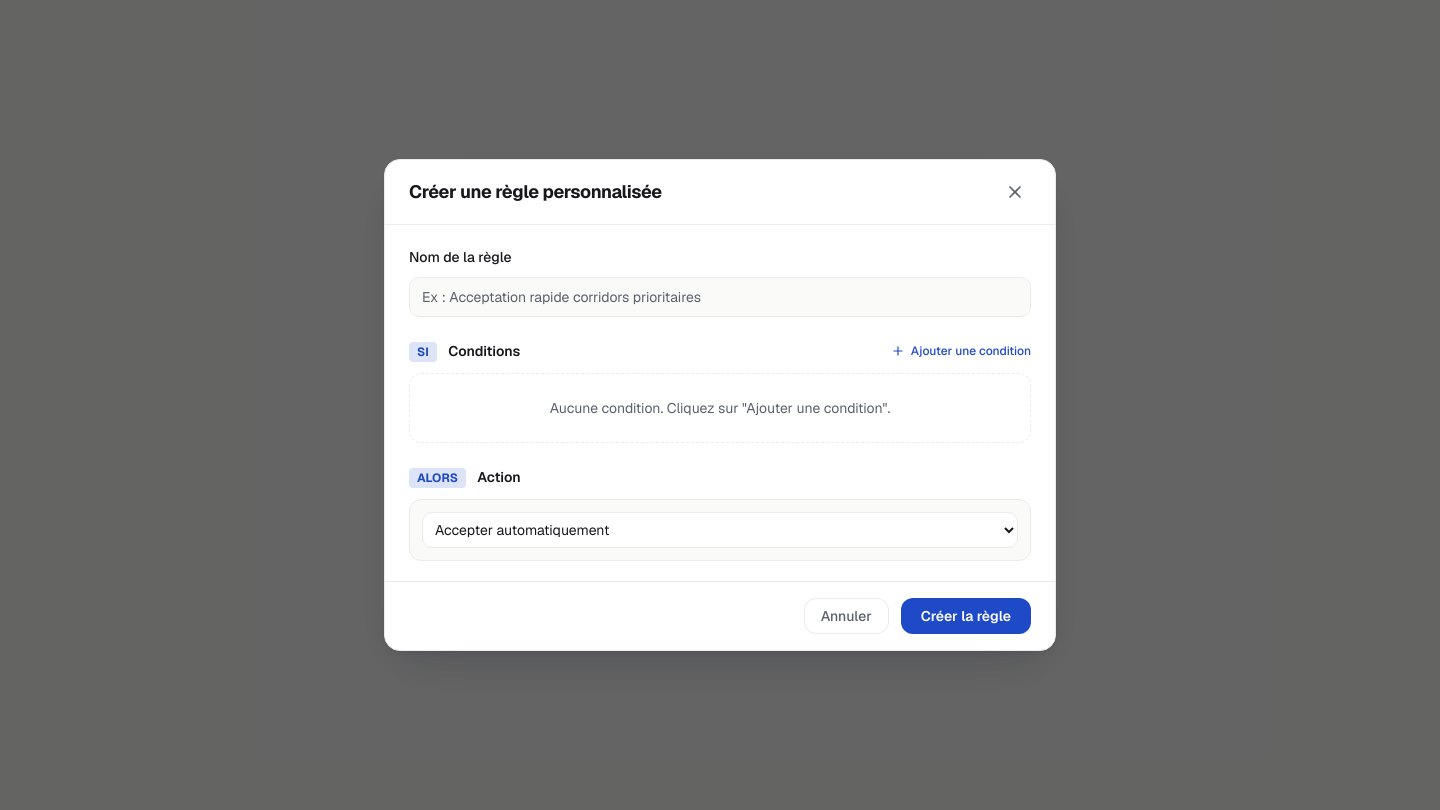
Test: AutomationRuleModal › clicking add-condition-btn appends a new condition row
Click the button with test id "add-condition-btn" at (961, 351), box [891,343,1031,359]
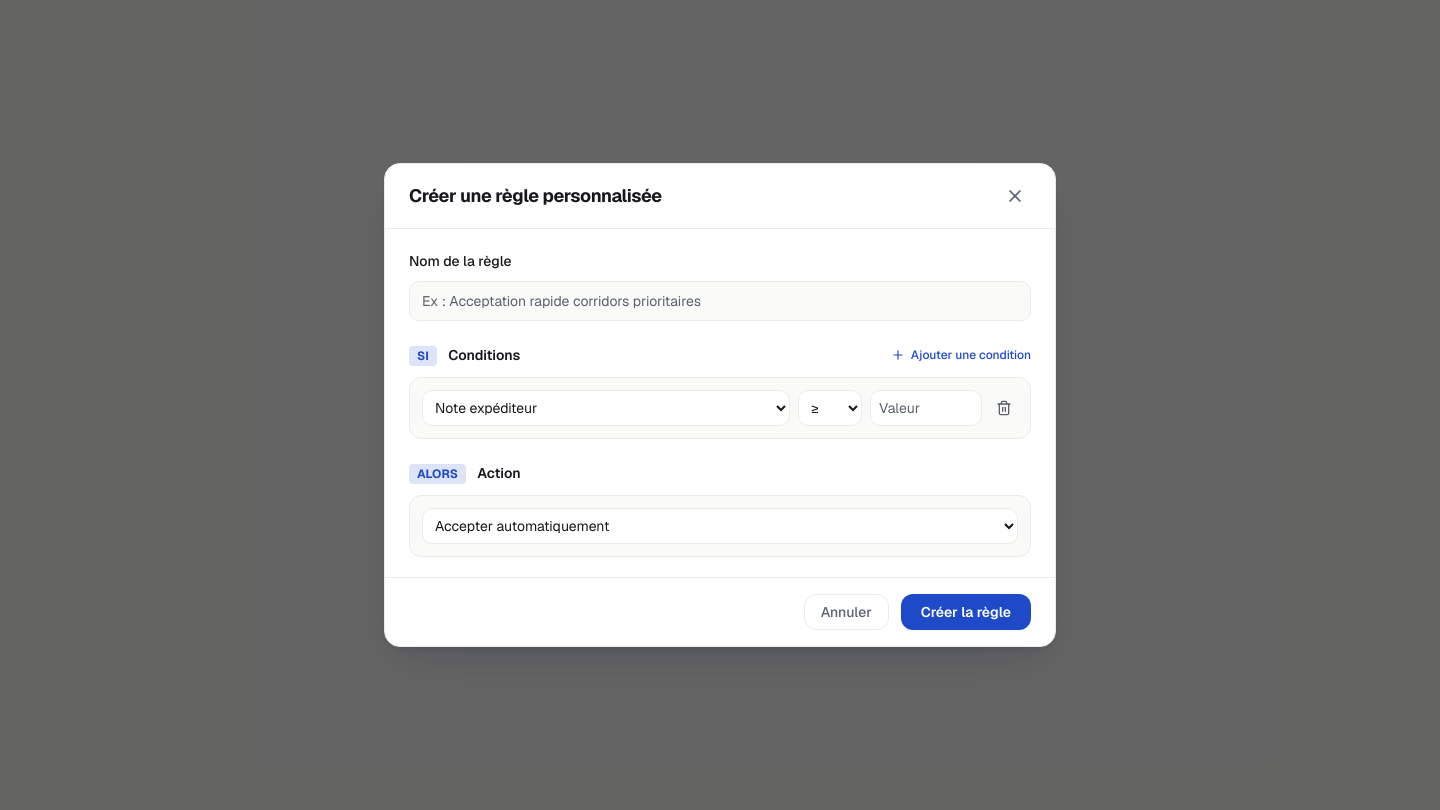
Expected: the number of elements with test id "condition-row" is 1, [409,377,1031,439]
